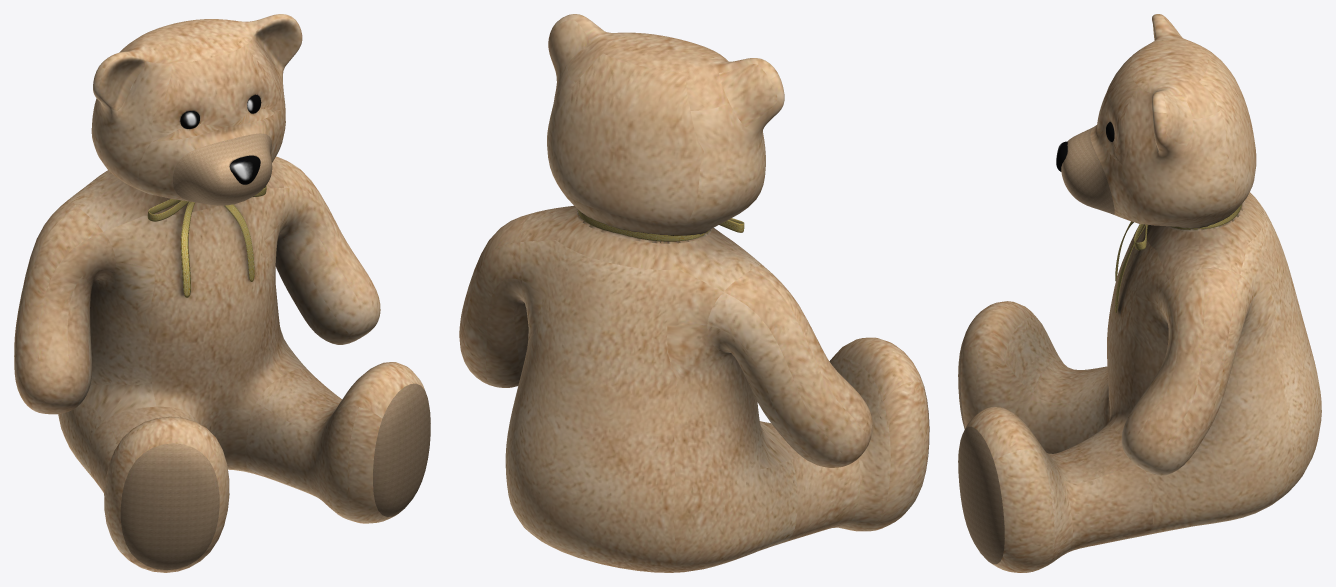
File: teddy.obj
The picture shows the model from 3 angles, left to right: view 1: azimuth 30°, elevation 25°; view 2: azimuth 150°, elevation 25°; view 3: azimuth 270°, elevation 25°; orthographic projection. The views are drawn at different scales.
Parts seen in each view (by area): view 1: teddy; view 2: teddy; view 3: teddy.
Part boxes in pixels (x1,y1,x2,y2): teddy: [14, 14, 430, 572]; teddy: [459, 14, 929, 572]; teddy: [958, 14, 1321, 572].
Bounding box in the file's own units: 0.8823 × 1.09 × 0.7772.
1 material, 1 textured.
